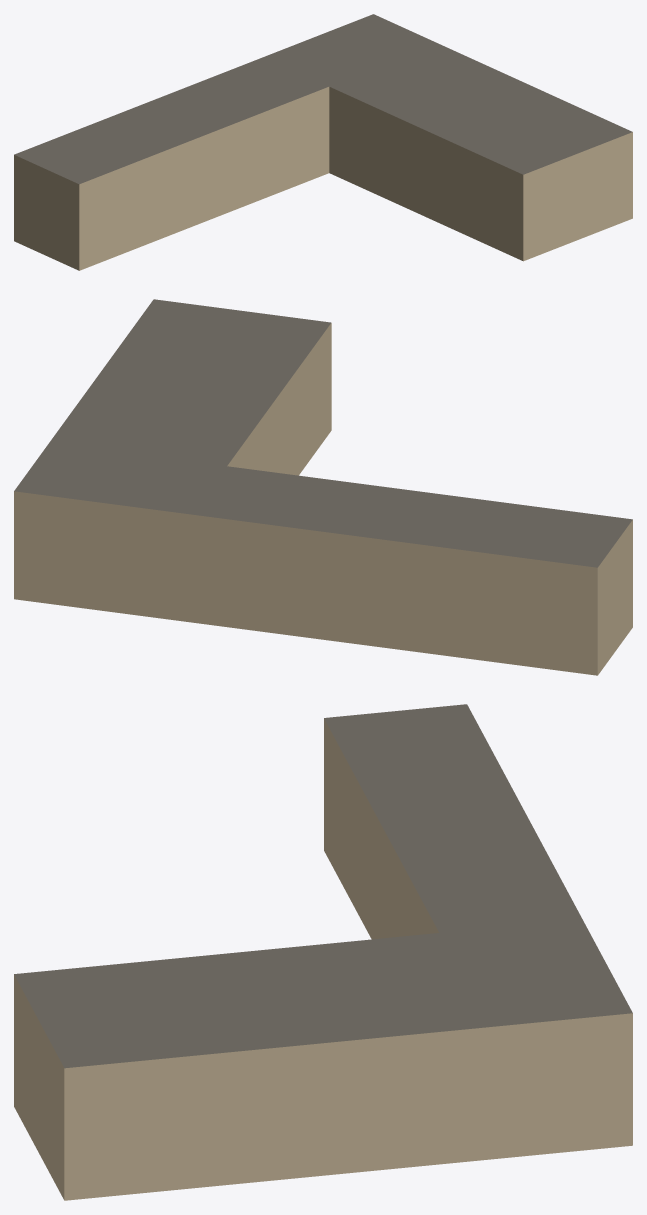
3 views of the same model, one above another, from view 1: azimuth 30°, elevation 25°; view 2: azimuth 150°, elevation 25°; view 3: azimuth 270°, elevation 25° (orthographic). The views are drawn at different scales.
Parts seen in each view (by area): view 1: HP-w1233759509; view 2: HP-w1233759509; view 3: HP-w1233759509.
Part boxes in pixels (x1=…): HP-w1233759509: x1=14, y1=14, x2=632, y2=270; HP-w1233759509: x1=14, y1=299, x2=632, y2=675; HP-w1233759509: x1=14, y1=704, x2=632, y2=1200.
Bounding box in the file's own units: 77.8 × 13.2 × 55.89.
